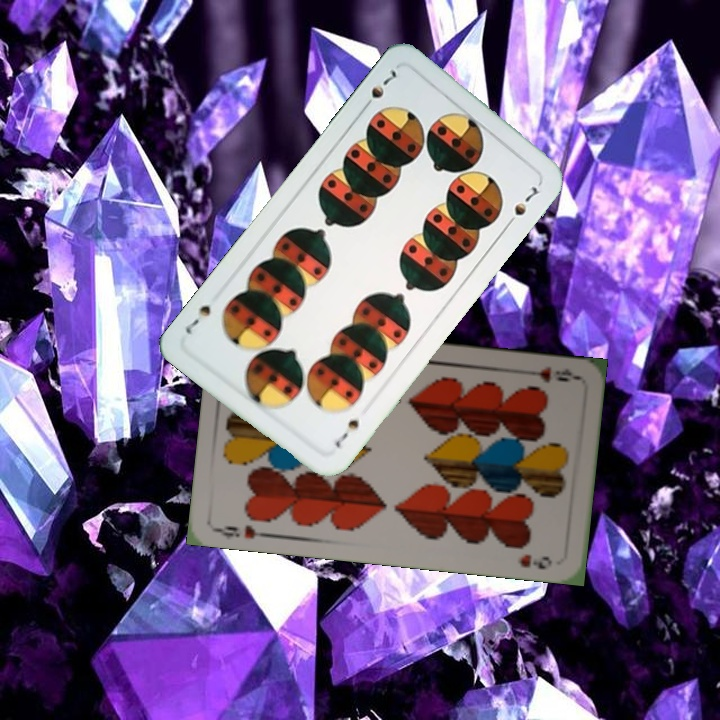H9: (520, 362, 579, 385), (212, 521, 271, 542)
S7: (358, 65, 404, 113), (331, 415, 362, 451)
